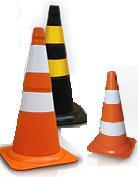traffic_cone: (0, 26, 79, 171), (44, 4, 87, 126), (87, 70, 137, 158)
